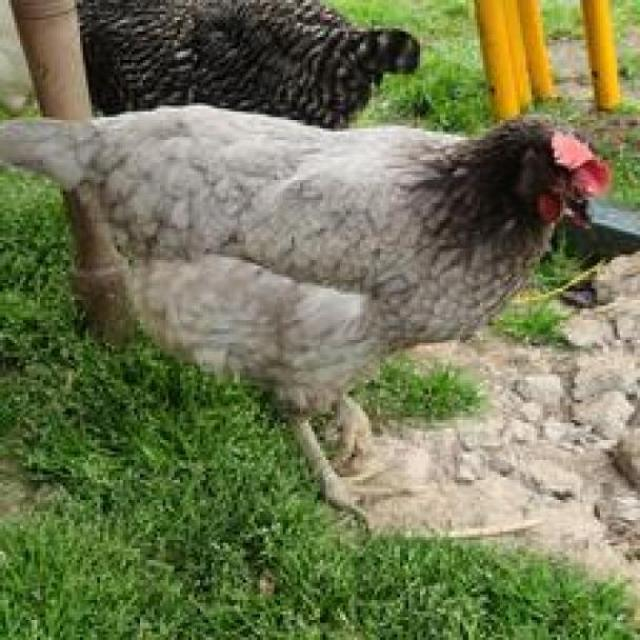Chicken: (12, 65, 640, 511)
